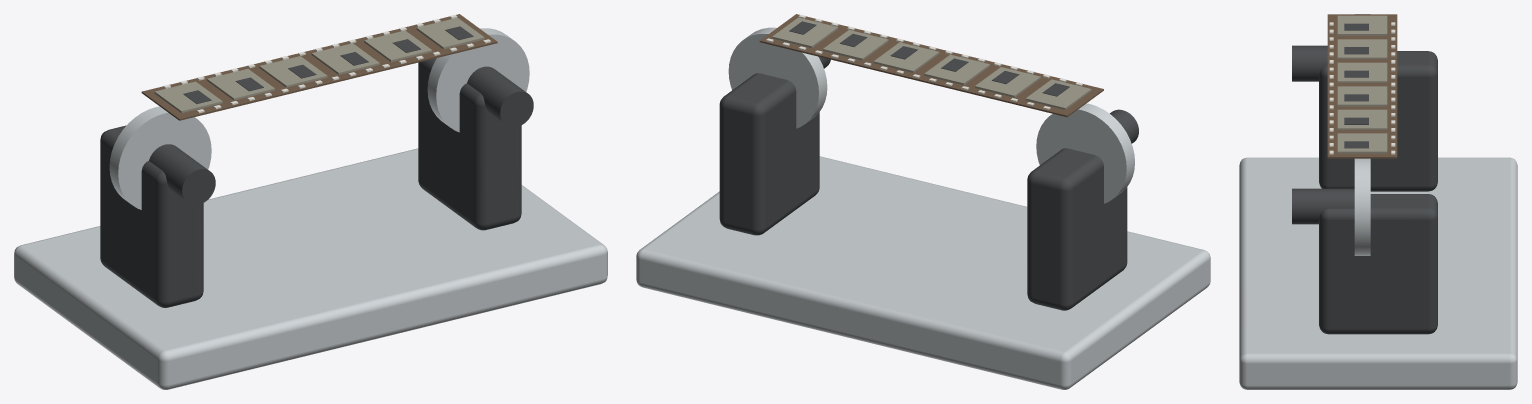
File: camera-repair-and-darkroom-laboratory-film-winding-ins-b9cf48c0__31788.glb
3 renders of one model, left to right at view 1: azimuth 30°, elevation 25°; view 2: azimuth 150°, elevation 25°; view 3: azimuth 270°, elevation 25°, orthographic. The views are drawn at different scales.
Parts seen in each view (by area): view 1: film-winding-inspection-fixture; view 2: film-winding-inspection-fixture; view 3: film-winding-inspection-fixture.
Boxes of the visible parts, x1,y1,x2,y2 form: film-winding-inspection-fixture: (14,14,607,389); film-winding-inspection-fixture: (636,14,1210,389); film-winding-inspection-fixture: (1239,14,1517,389).
Bounding box in the file's own units: 0.24 × 0.1157 × 0.14.
